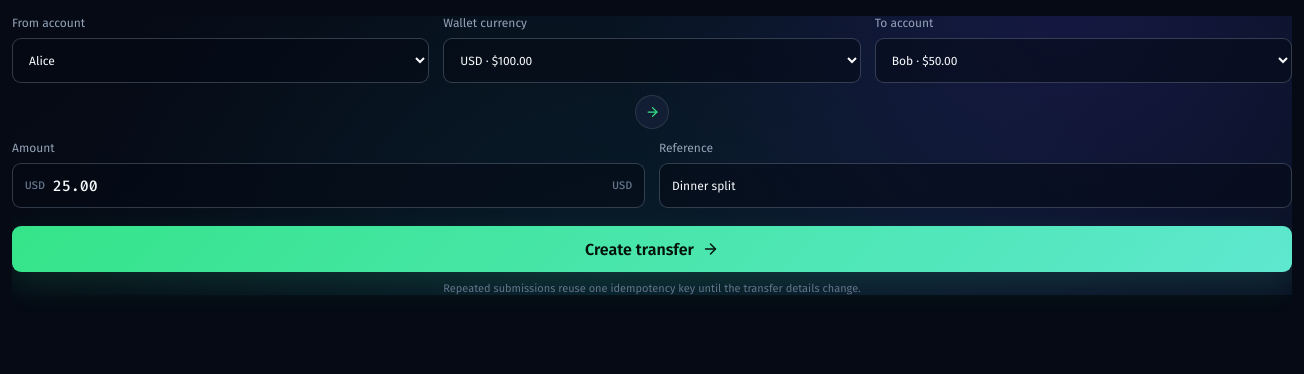
Test: TransferForm › blocks simultaneous submits and reuses one key while details are unchanged
Later steps or results of the test are not shown.
Click the button "Create transfer" at (652, 249), box [12,226,1292,272]
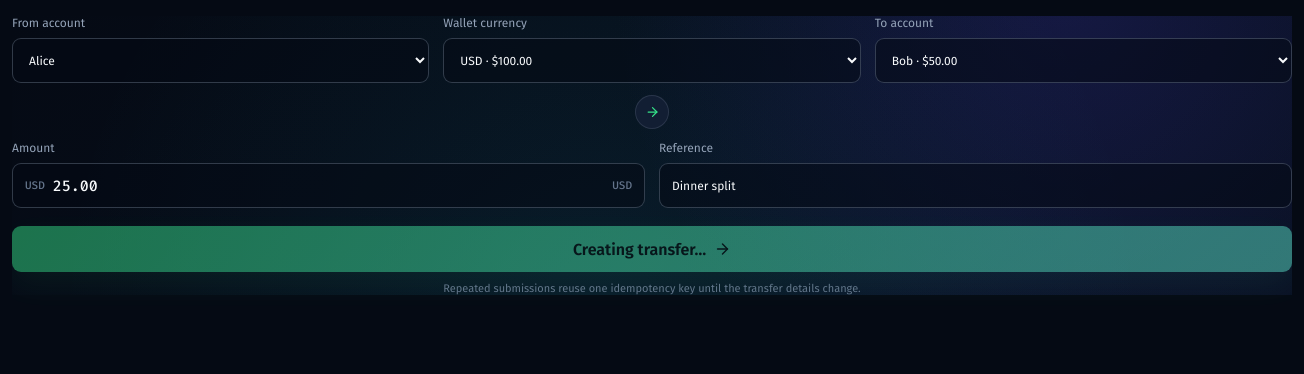
Click the button named "Create transfer" at (652, 249), box [12,226,1292,272]
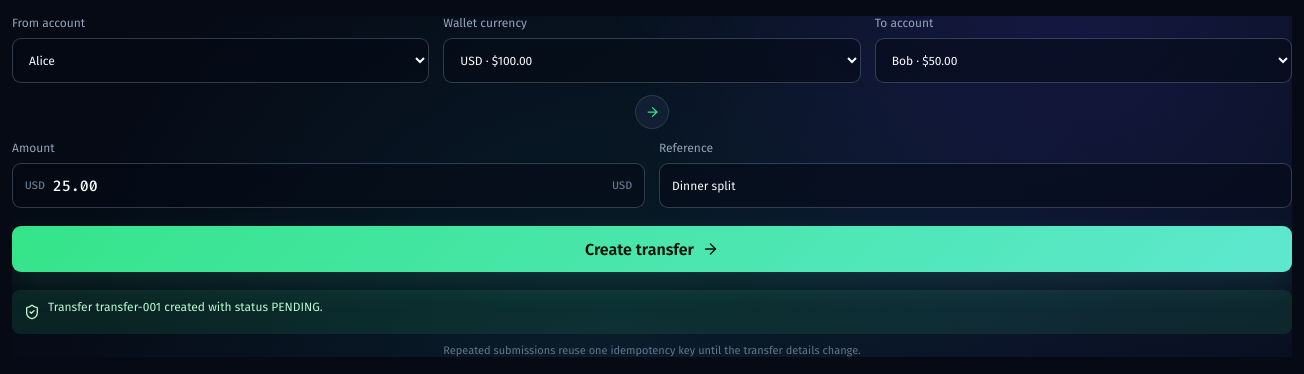
Expected: the message "Transfer transfer-001 created with status PENDING." is shown, [12,290,1292,334]
